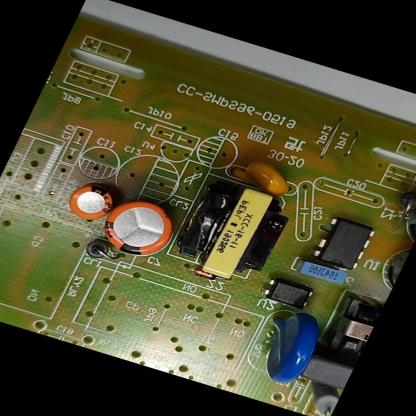Cap1: (92, 191, 186, 265)
Cap2: (62, 179, 120, 226)
Cap3: (370, 241, 412, 301)
Cap4: (400, 180, 415, 244)
MOSFET: (308, 212, 380, 274)
Mov: (244, 305, 330, 390)
Resistor: (295, 378, 344, 416)
Transformer: (166, 174, 298, 291), (318, 290, 385, 362)
